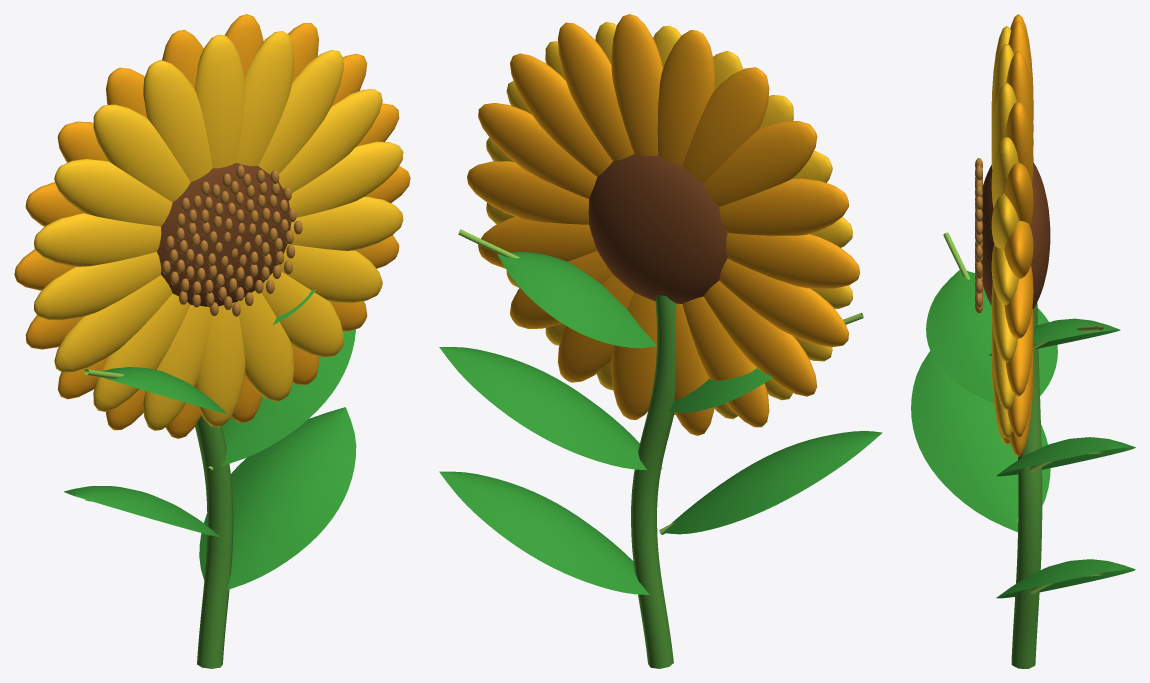
File: sunflower-v15.glb
The picture shows the model from 3 angles, left to right: view 1: azimuth 30°, elevation 25°; view 2: azimuth 150°, elevation 25°; view 3: azimuth 270°, elevation 25°; orthographic projection. The views are drawn at different scales.
Visible parts, largest first — view 1: Harvest_Petal gold, PlantBody_Leaf green, Harvest_Petal amber, Harvest_Individual seeds, Seed head, Living curved stem; view 2: Harvest_Petal amber, PlantBody_Leaf green, Seed head, Living curved stem, Harvest_Petal gold; view 3: PlantBody_Leaf green, Harvest_Petal amber, Harvest_Petal gold, Living curved stem, Seed head, Harvest_Individual seeds, PlantBody_Leaf vein.
Part boxes in pixels (left/top/right/bottom): Harvest_Petal gold: left=34, top=31, right=403, bottom=430; PlantBody_Leaf green: left=64, top=289, right=356, bottom=590; Harvest_Petal amber: left=14, top=14, right=410, bottom=438; Harvest_Individual seeds: left=162, top=165, right=302, bottom=316; Seed head: left=157, top=162, right=291, bottom=306; Living curved stem: left=195, top=415, right=233, bottom=668; Harvest_Petal amber: left=467, top=14, right=859, bottom=435; PlantBody_Leaf green: left=439, top=251, right=882, bottom=594; Seed head: left=588, top=153, right=727, bottom=303; Living curved stem: left=631, top=294, right=676, bottom=668; Harvest_Petal gold: left=486, top=22, right=852, bottom=419; PlantBody_Leaf green: left=911, top=270, right=1135, bottom=598; Harvest_Petal amber: left=1004, top=14, right=1033, bottom=456; Harvest_Petal gold: left=991, top=26, right=1019, bottom=444; Living curved stem: left=1011, top=303, right=1042, bottom=668; Seed head: left=981, top=163, right=1050, bottom=308; Harvest_Individual seeds: left=975, top=158, right=982, bottom=313; PlantBody_Leaf vein: left=943, top=232, right=1103, bottom=593.
Bounding box in the file's own units: 1.32 × 2.05 × 0.6677.
